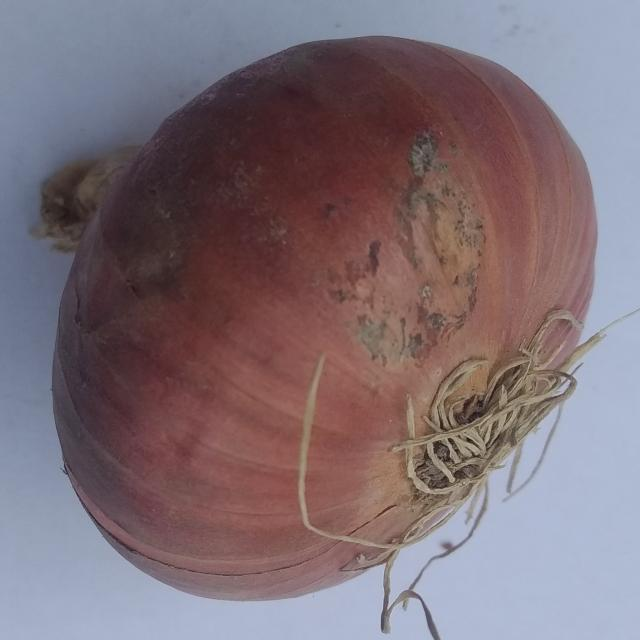onion: (32, 35, 604, 620)
